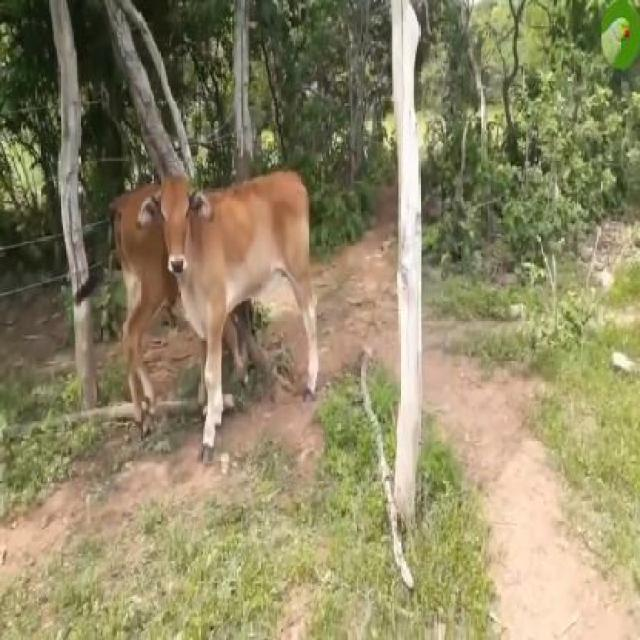Cow: (137, 171, 320, 466)
